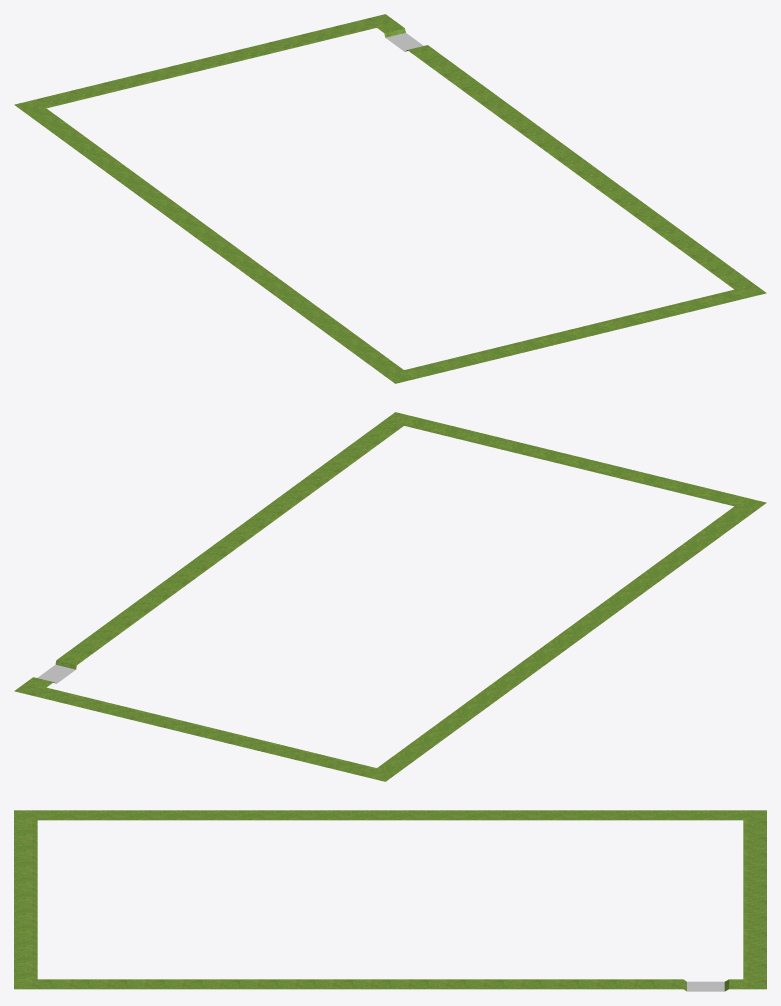
Rendered from PlatformPhone.fbx.
3 renders of one model, top to bottom at view 1: azimuth 30°, elevation 25°; view 2: azimuth 150°, elevation 25°; view 3: azimuth 270°, elevation 25°, orthographic.
Parts seen in each view (by area): view 1: Plane; view 2: Plane; view 3: Plane.
Boxes of the visible parts, left/top/right/bottom form: Plane: left=14, top=14, right=766, bottom=383; Plane: left=14, top=412, right=766, bottom=781; Plane: left=14, top=810, right=766, bottom=991.
Bounding box in the file's own units: 1800 × 13.17 × 3200.
